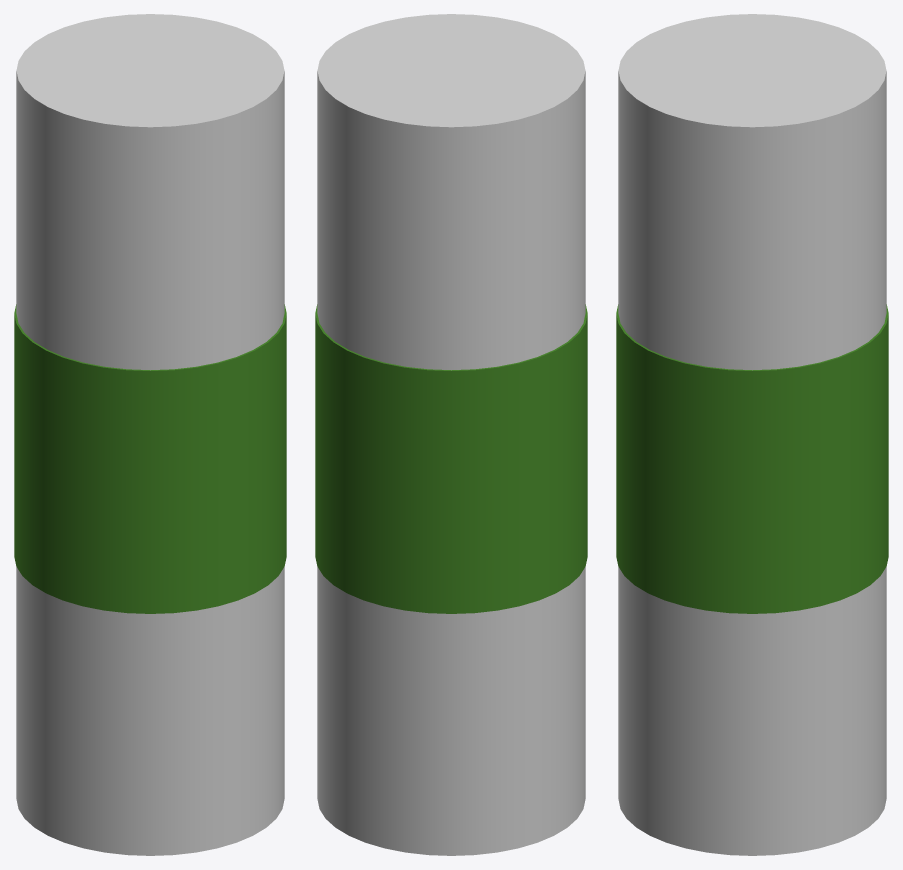
The picture shows the model from 3 angles, left to right: view 1: azimuth 30°, elevation 25°; view 2: azimuth 150°, elevation 25°; view 3: azimuth 270°, elevation 25°; orthographic projection.
Visible parts, largest first — view 1: Carrot, Carrot Cake Tape; view 2: Carrot, Carrot Cake Tape; view 3: Carrot, Carrot Cake Tape.
Boxes of the visible parts, <box> form: Carrot: <box>16,14,284,855</box>; Carrot Cake Tape: <box>14,304,286,613</box>; Carrot: <box>317,14,585,855</box>; Carrot Cake Tape: <box>315,304,587,613</box>; Carrot: <box>618,14,886,855</box>; Carrot Cake Tape: <box>616,304,888,613</box>.
Size of the model in its own units: 0.1549 by 0.4572 by 0.1549.
